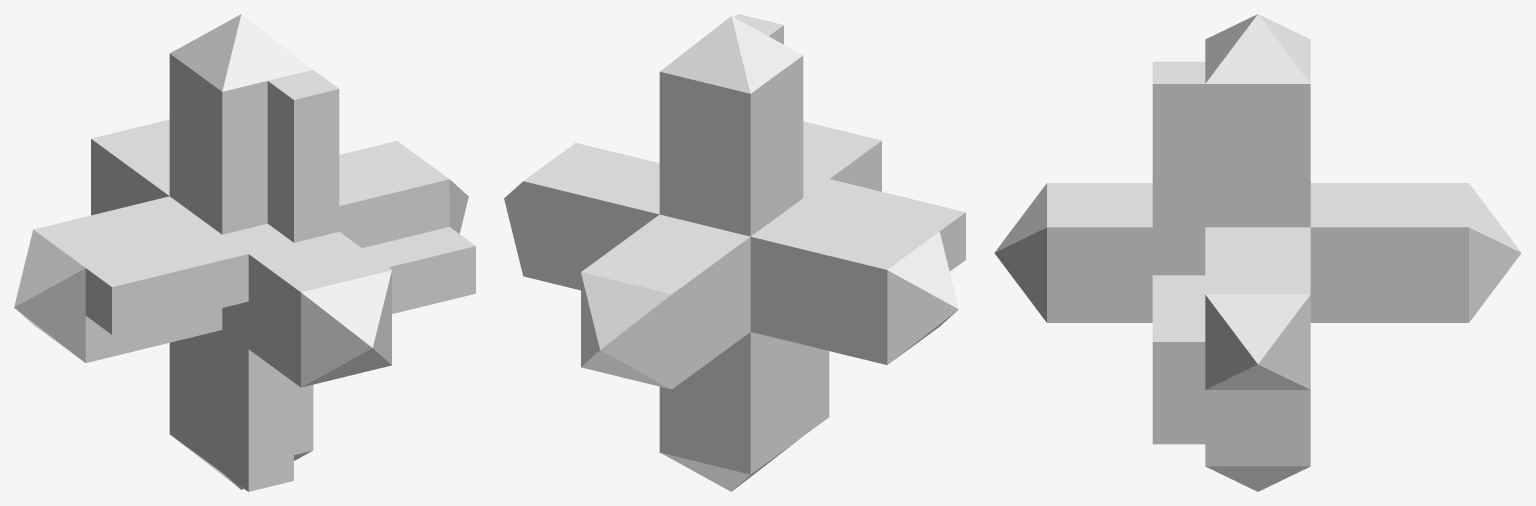
The model's file is my_cool_object.glb.
The picture shows the model from 3 angles, left to right: view 1: azimuth 30°, elevation 25°; view 2: azimuth 150°, elevation 25°; view 3: azimuth 270°, elevation 25°; orthographic projection.
Visible parts, largest first — view 1: voxel_f0f0f0_metal; view 2: voxel_f0f0f0_metal; view 3: voxel_f0f0f0_metal.
Part boxes in pixels (<box>): voxel_f0f0f0_metal: <box>14,14,475,491</box>; voxel_f0f0f0_metal: <box>504,14,965,491</box>; voxel_f0f0f0_metal: <box>994,14,1521,491</box>.
Size of the model in its own units: 2.5 by 2.5 by 2.5.
Materials: 1 (1 with a texture image).
